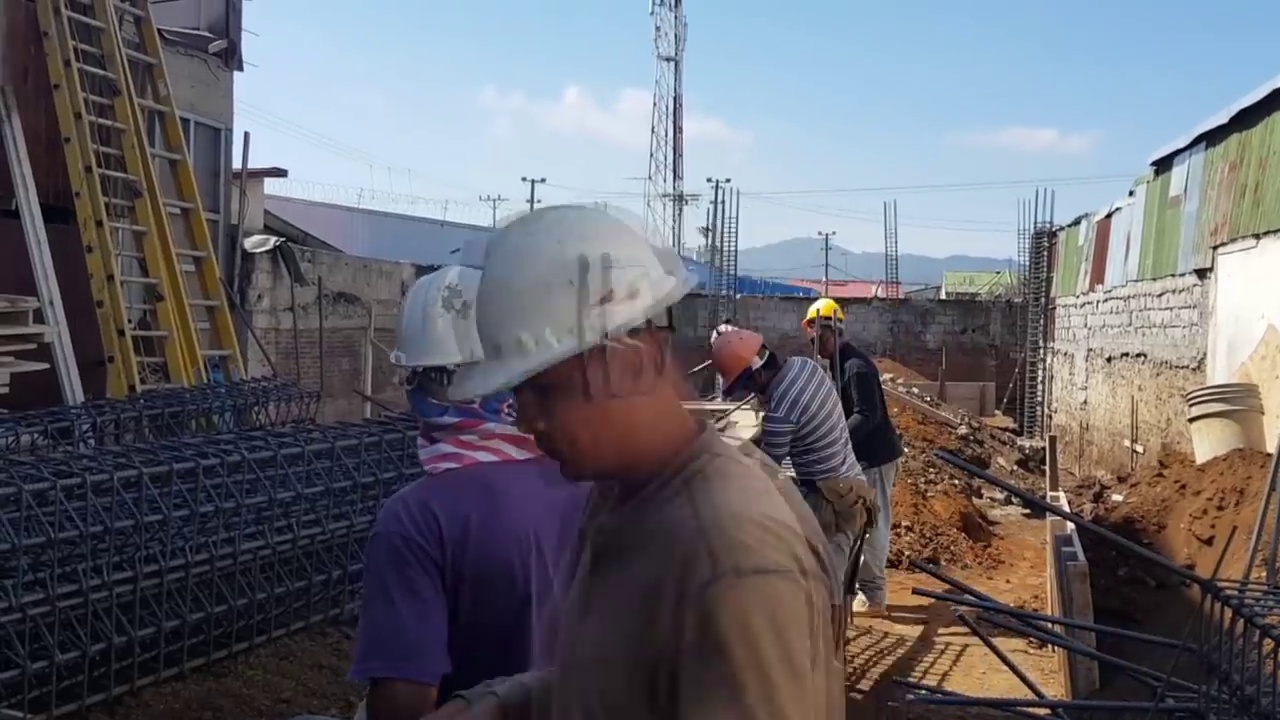helmet: (452, 206, 681, 406), (392, 264, 498, 386), (714, 324, 762, 394), (801, 298, 845, 331)
helmet-on: (451, 204, 717, 504), (387, 264, 519, 488), (714, 324, 791, 403), (800, 298, 846, 365)
person: (450, 193, 848, 720), (354, 263, 593, 720), (712, 324, 870, 629), (800, 299, 894, 619)
